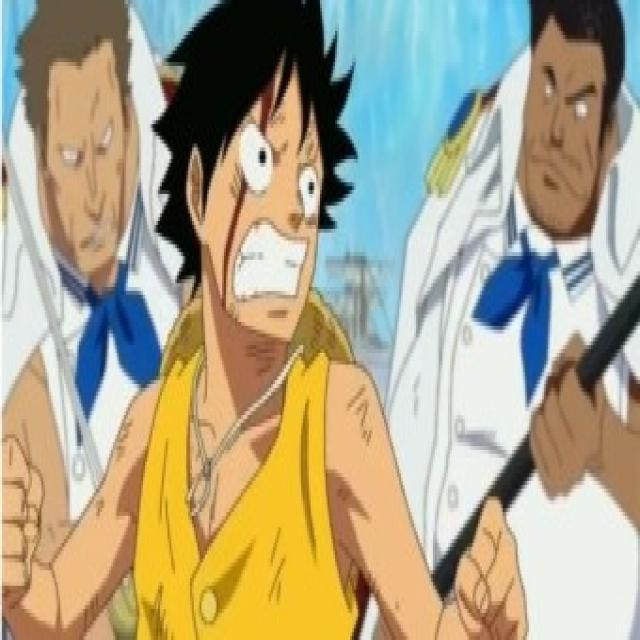Luffy: (150, 7, 356, 336)
